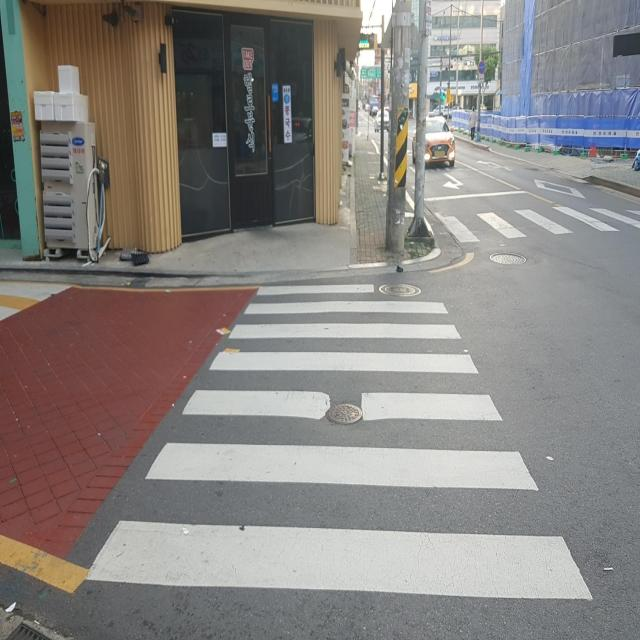횡단보도: (83, 274, 598, 606), (438, 202, 640, 246)
